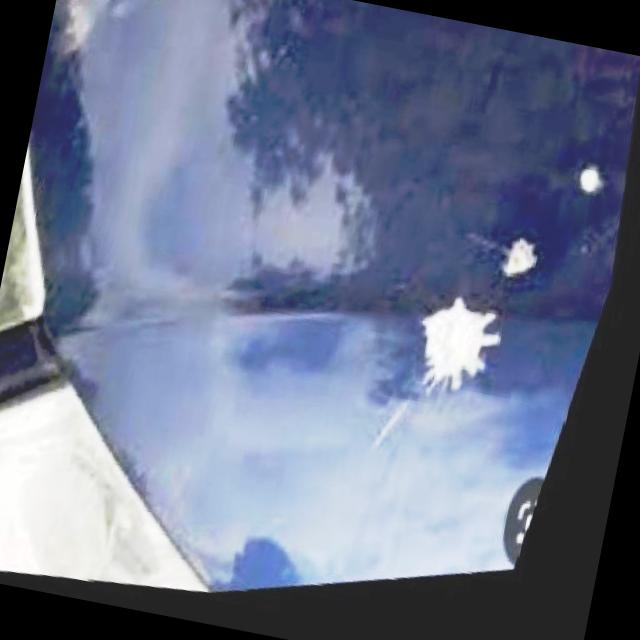Bird Poop: (421, 297, 499, 388), (502, 238, 536, 276), (580, 168, 602, 193)
